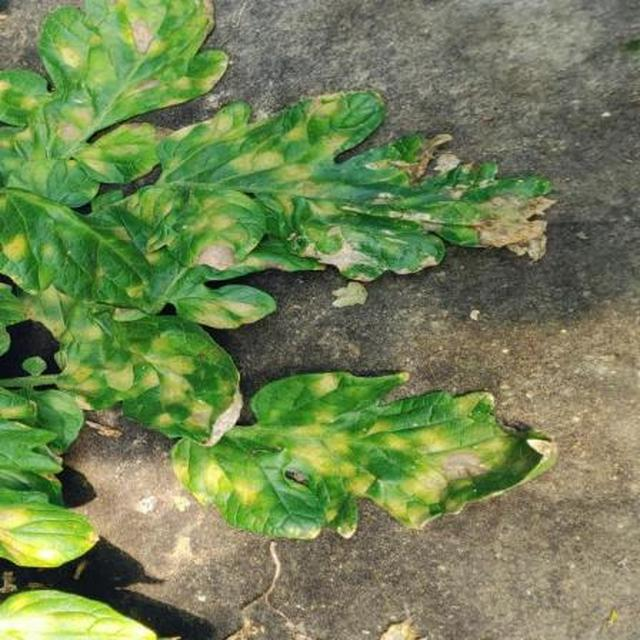Leaf Mold: (164, 149, 577, 640)
